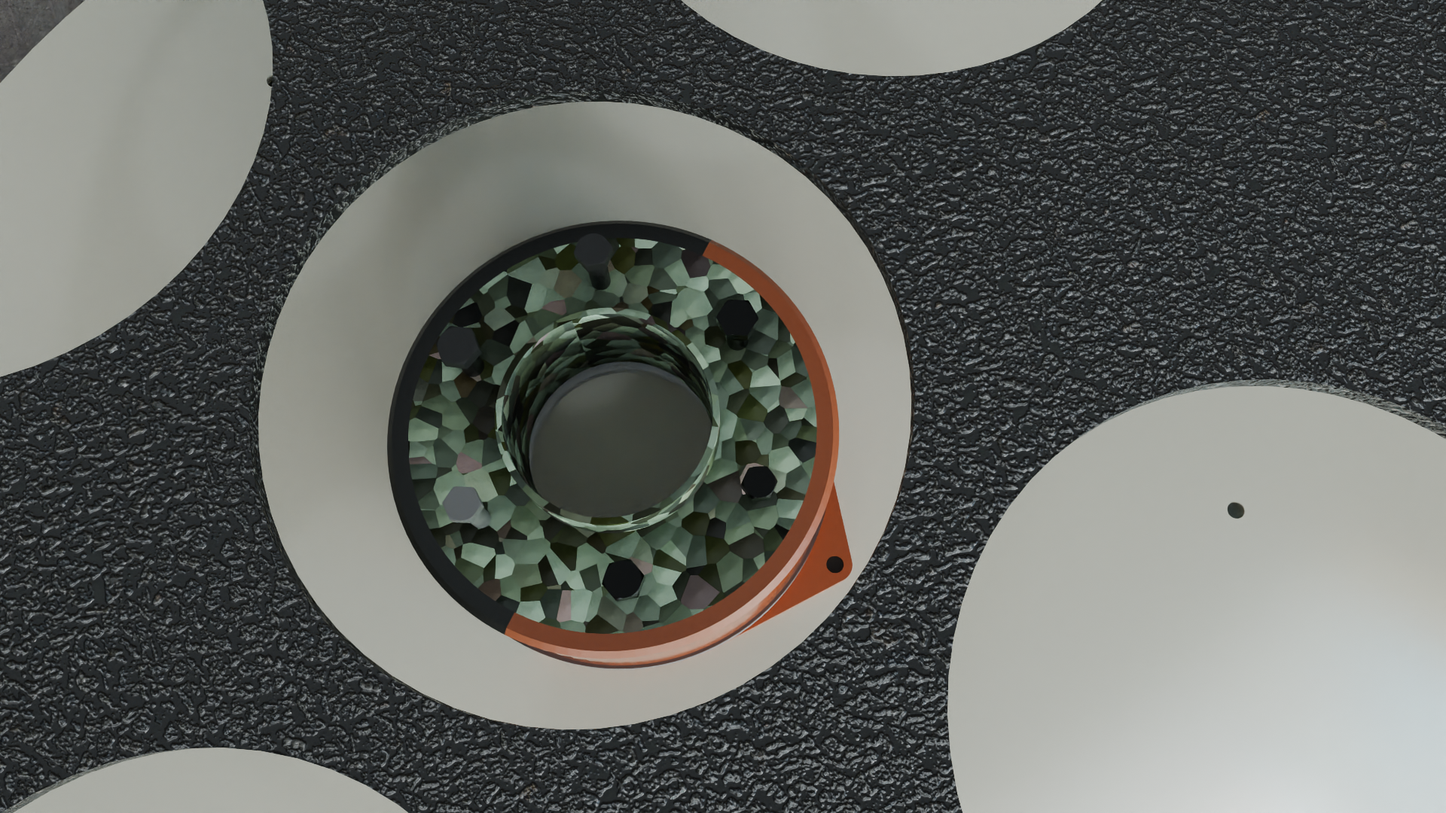bolt: (602, 559, 645, 601), (435, 326, 478, 364), (716, 300, 758, 336), (442, 486, 481, 521), (574, 233, 612, 266), (741, 466, 778, 499)
